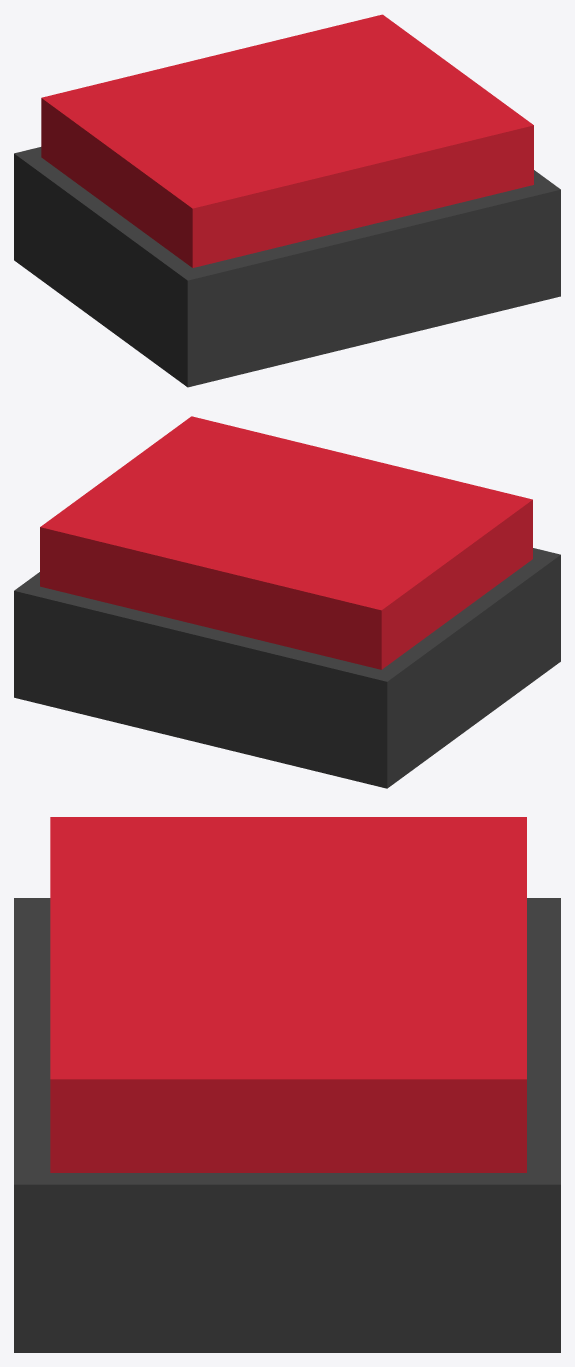
File: Button.glb
3 views of the same model, one above another, from view 1: azimuth 30°, elevation 25°; view 2: azimuth 150°, elevation 25°; view 3: azimuth 270°, elevation 25° (orthographic). The views are drawn at different scales.
Visible parts, largest first — view 1: Cube.001, Cube; view 2: Cube.001, Cube; view 3: Cube.001, Cube.
Part boxes in pixels (x1,y1,x2,y2): Cube.001: (41, 14, 533, 267); Cube: (14, 147, 560, 387); Cube.001: (40, 416, 532, 669); Cube: (14, 548, 560, 788); Cube.001: (50, 817, 526, 1172); Cube: (14, 898, 560, 1352).
Bounding box in the file's own units: 0.1437 × 0.0612 × 0.1159.
